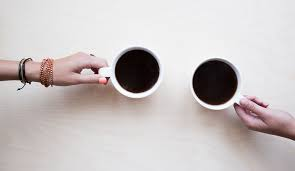cup: (93, 46, 167, 101)
